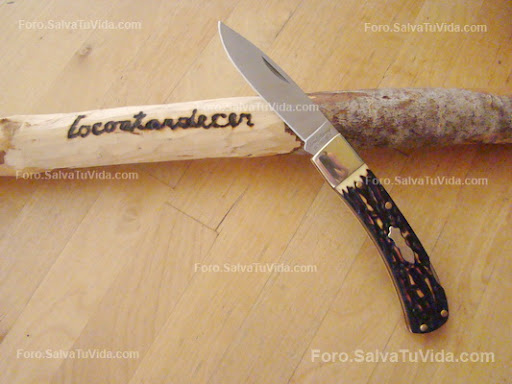knife: (212, 10, 361, 191)
